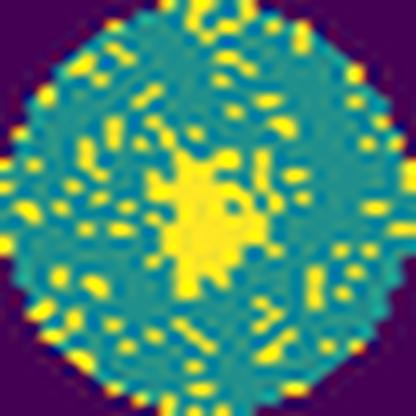Center: (147, 132, 289, 308)
